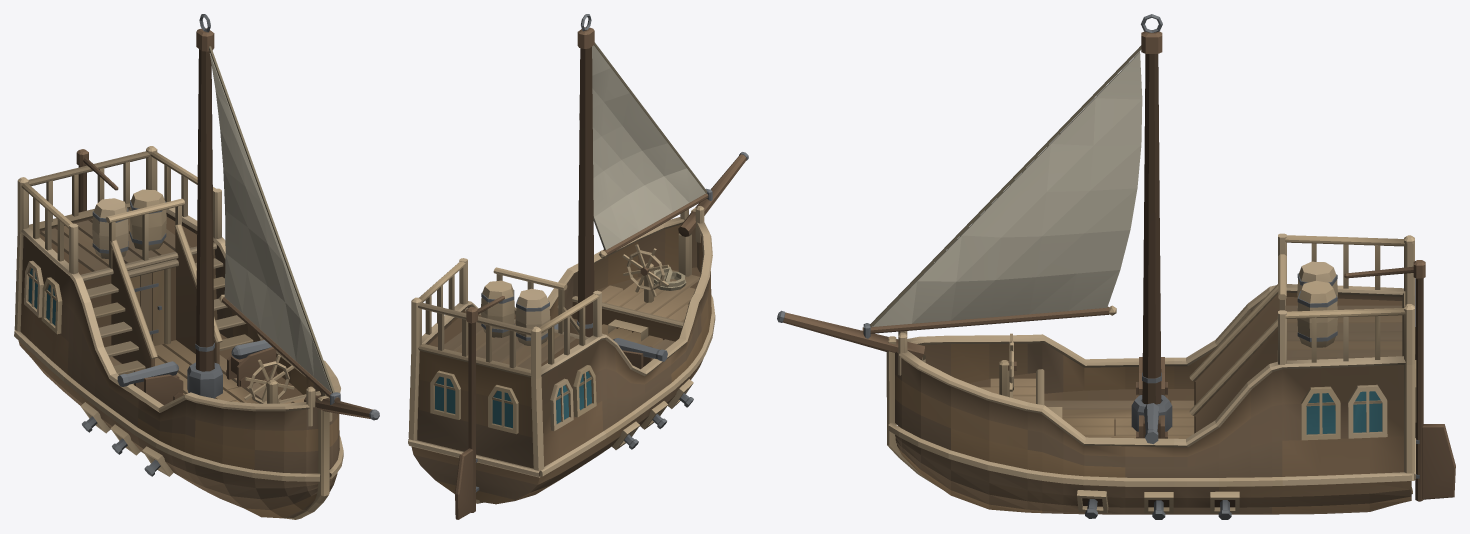
Rendered from sloop.glb.
3 renders of one model, left to right at view 1: azimuth 30°, elevation 25°; view 2: azimuth 150°, elevation 25°; view 3: azimuth 270°, elevation 25°, orthographic. The views are drawn at different scales.
Parts seen in each view (by area): view 1: sloop; view 2: sloop; view 3: sloop.
Boxes of the visible parts, <box> form: sloop: <box>14,14,379,519</box>; sloop: <box>408,14,748,519</box>; sloop: <box>777,14,1455,519</box>.
Bounding box in the file's own units: 3.21 × 7.77 × 9.72.
